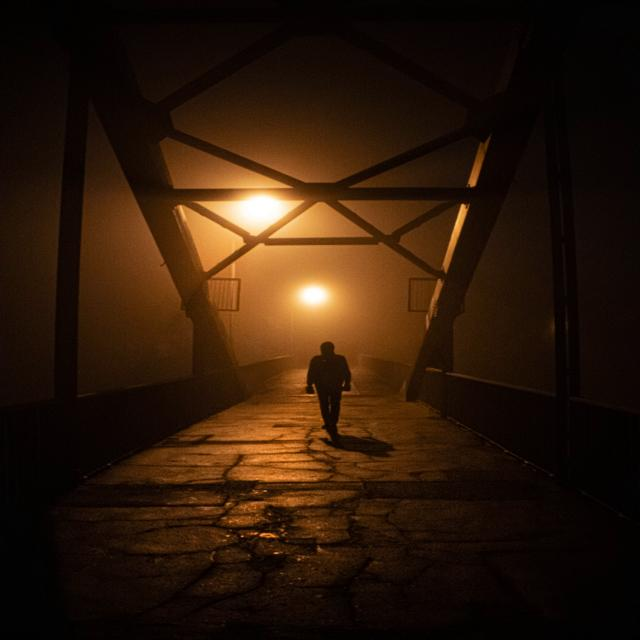adult: (306, 342, 352, 433)
